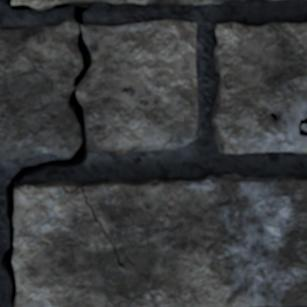brick: (12, 174, 306, 306), (212, 22, 306, 152), (12, 0, 228, 9), (265, 0, 284, 2), (302, 125, 306, 129)
broken_brick: (77, 19, 198, 155), (0, 18, 81, 160)
crack: (0, 2, 93, 304), (7, 0, 30, 10), (298, 116, 306, 137), (0, 28, 27, 30)
